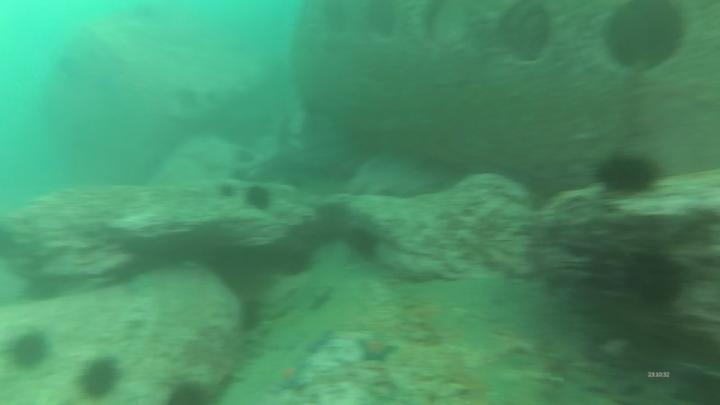echinus: (618, 244, 692, 315), (592, 149, 666, 198), (72, 349, 131, 402), (4, 324, 58, 374), (166, 374, 217, 405), (350, 226, 380, 263), (246, 181, 277, 213)
starfish: (357, 331, 401, 367), (271, 362, 312, 396), (299, 331, 341, 356)
